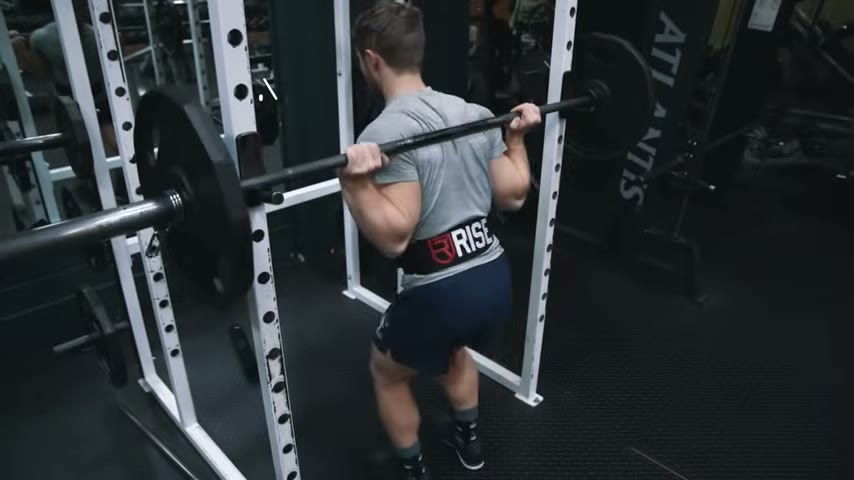barbell_plate_side: (5, 25, 177, 479)
